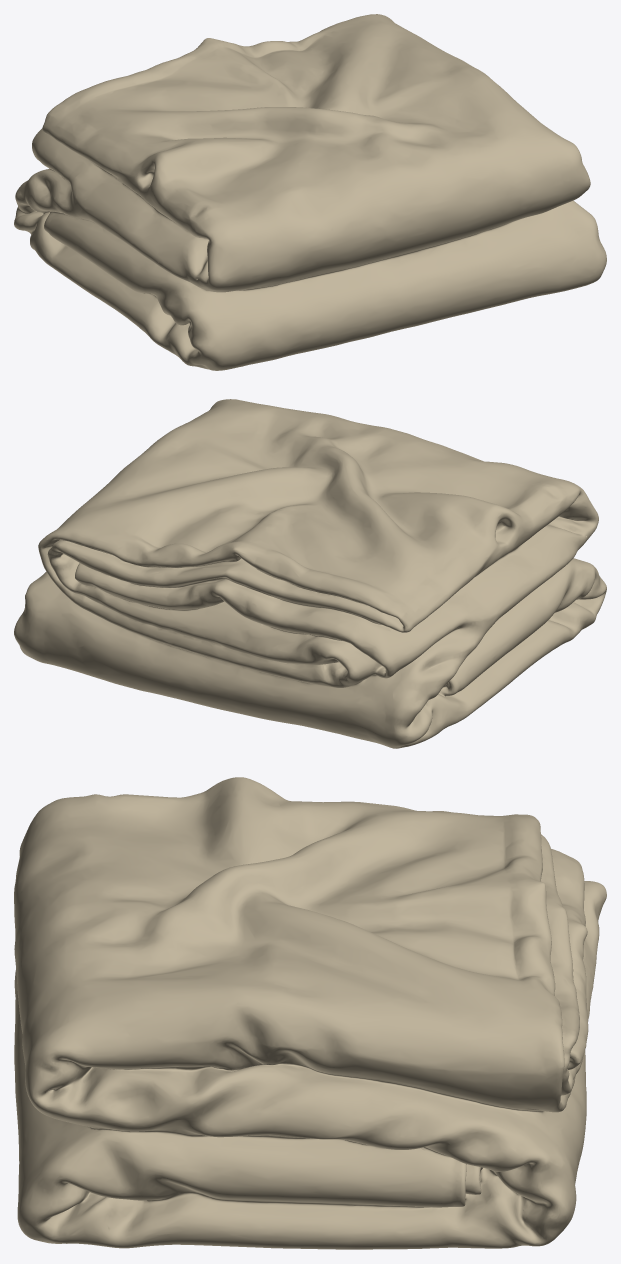
The model's file is gen-folded-throw-1.glb.
3 views of the same model, one above another, from view 1: azimuth 30°, elevation 25°; view 2: azimuth 150°, elevation 25°; view 3: azimuth 270°, elevation 25° (orthographic). The views are drawn at different scales.
Parts seen in each view (by area): view 1: gen-folded-throw-1_part1; view 2: gen-folded-throw-1_part1; view 3: gen-folded-throw-1_part1.
Boxes of the visible parts, bbox=[...] form: gen-folded-throw-1_part1: bbox=[14, 14, 606, 370]; gen-folded-throw-1_part1: bbox=[14, 399, 606, 748]; gen-folded-throw-1_part1: bbox=[14, 777, 606, 1249].
Size of the model in its own units: 462 by 180 by 407.
